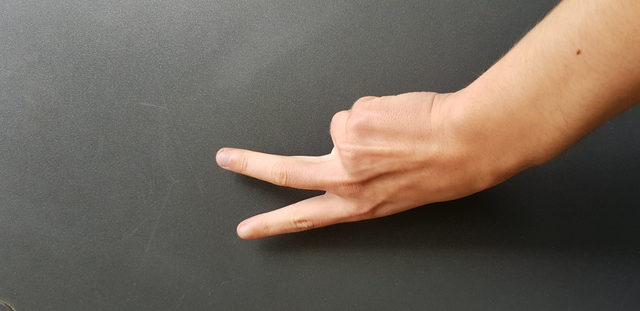Scissors: (189, 74, 522, 252)
